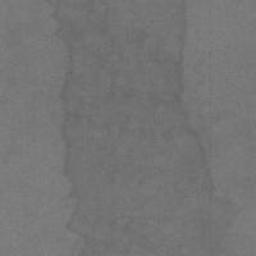Water spot: (45, 0, 239, 256)
